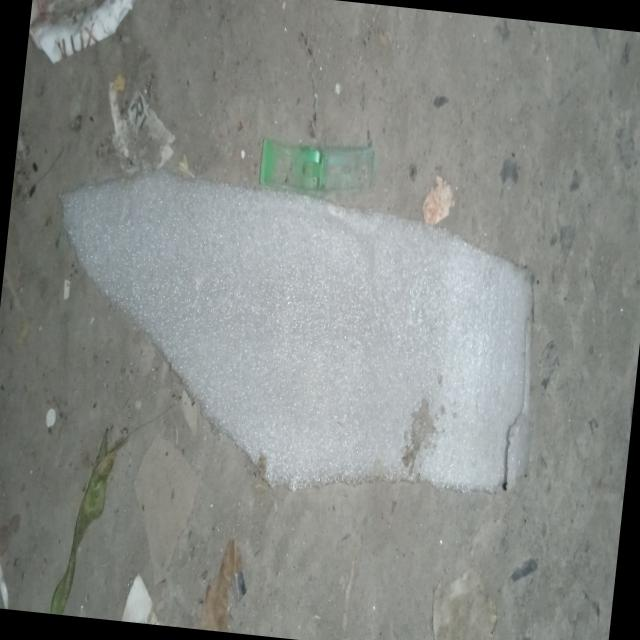electronic: (30, 157, 554, 514)
